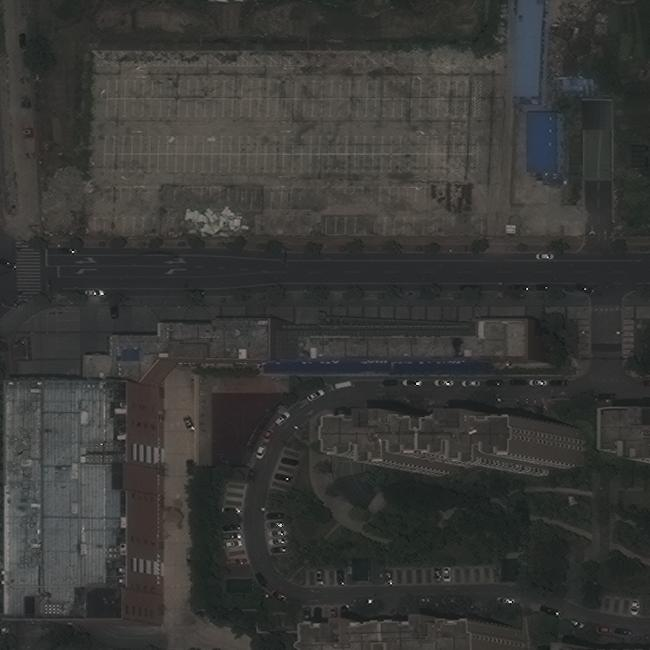parking lot: (106, 99, 477, 122), (107, 76, 476, 99), (106, 155, 477, 177), (104, 133, 479, 154), (100, 185, 426, 206), (321, 215, 456, 237)
